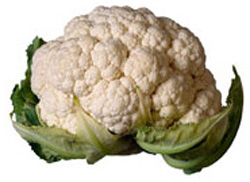cauliflower: (5, 0, 247, 179)
